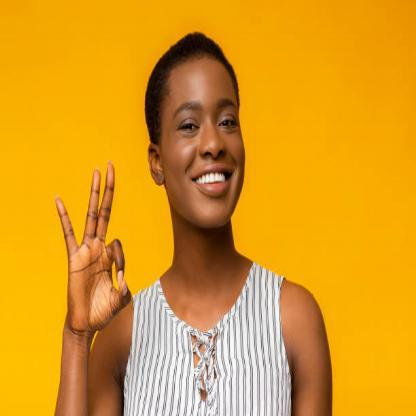ok: (52, 158, 134, 334)
